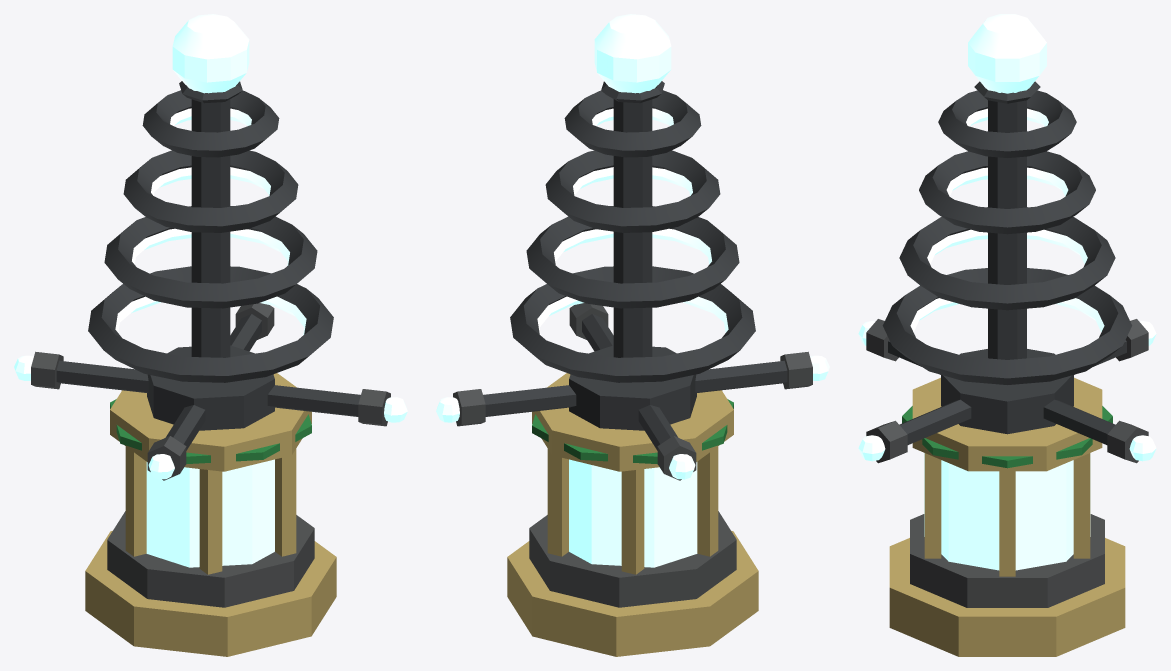
The model's file is tesla_lod1.glb.
3 views of the same model, side by side, from view 1: azimuth 30°, elevation 25°; view 2: azimuth 150°, elevation 25°; view 3: azimuth 270°, elevation 25° (orthographic).
Parts seen in each view (by area): view 1: Tesla_LOD1_Walls, Tesla_LOD1_Frame, Tesla_LOD1_Foundation, Tesla_LOD1_Details, Tesla_LOD1_head; view 2: Tesla_LOD1_Walls, Tesla_LOD1_Frame, Tesla_LOD1_Foundation, Tesla_LOD1_Details, Tesla_LOD1_head; view 3: Tesla_LOD1_Walls, Tesla_LOD1_Frame, Tesla_LOD1_Foundation, Tesla_LOD1_Details, Tesla_LOD1_head.
Boxes of the visible parts, left/top/right/bottom form: Tesla_LOD1_Walls: left=88, top=90, right=333, bottom=567; Tesla_LOD1_Frame: left=110, top=99, right=311, bottom=574; Tesla_LOD1_Foundation: left=85, top=511, right=336, bottom=656; Tesla_LOD1_Details: left=14, top=108, right=407, bottom=480; Tesla_LOD1_head: left=172, top=14, right=249, bottom=103; Tesla_LOD1_Walls: left=510, top=90, right=755, bottom=567; Tesla_LOD1_Frame: left=532, top=99, right=733, bottom=574; Tesla_LOD1_Foundation: left=507, top=511, right=758, bottom=656; Tesla_LOD1_Details: left=436, top=108, right=829, bottom=480; Tesla_LOD1_head: left=594, top=14, right=671, bottom=103; Tesla_LOD1_Walls: left=882, top=90, right=1132, bottom=570; Tesla_LOD1_Frame: left=912, top=100, right=1102, bottom=576; Tesla_LOD1_Foundation: left=889, top=514, right=1125, bottom=656; Tesla_LOD1_Details: left=858, top=108, right=1156, bottom=468; Tesla_LOD1_head: left=968, top=14, right=1046, bottom=103.
Bounding box in the file's own units: 1.08 × 2.35 × 1.08.
